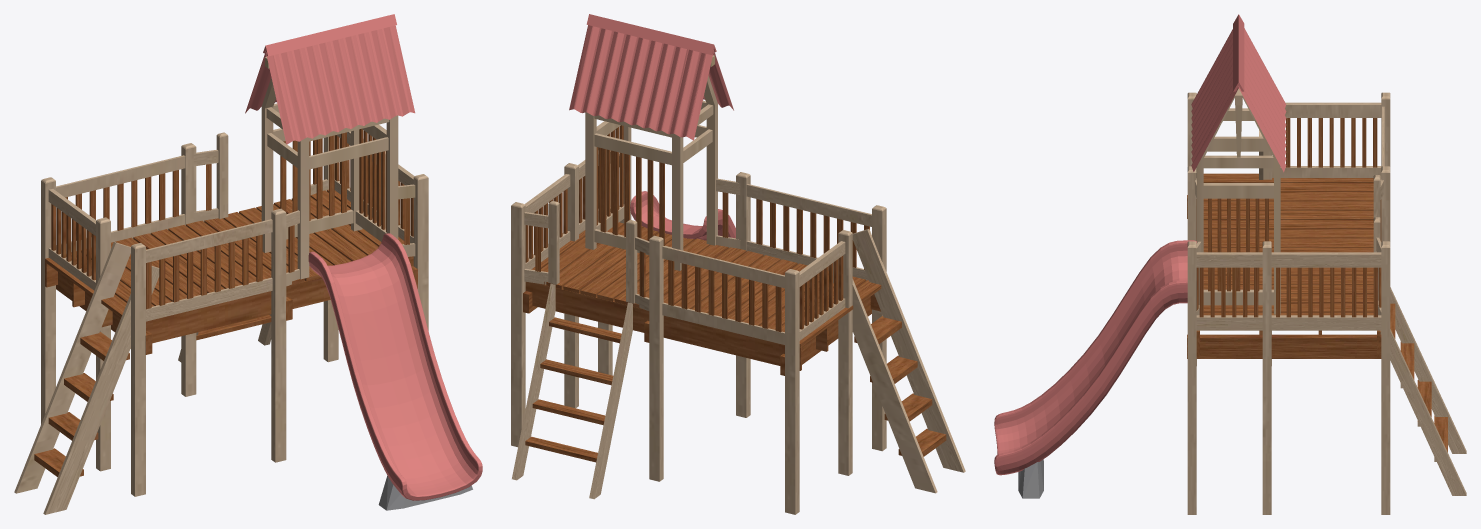
The model's file is sh-bs0-child-hut.glb.
The picture shows the model from 3 angles, left to right: view 1: azimuth 30°, elevation 25°; view 2: azimuth 150°, elevation 25°; view 3: azimuth 270°, elevation 25°; orthographic projection. The views are drawn at different scales.
Visible parts, largest first — view 1: WoodParts, ChidHut; view 2: WoodParts, ChidHut; view 3: WoodParts, ChidHut.
Boxes of the visible parts, <box> form: WoodParts: <box>14,56,428,514</box>; ChidHut: <box>245,14,482,510</box>; WoodParts: <box>511,55,965,514</box>; ChidHut: <box>569,14,735,240</box>; WoodParts: <box>1187,88,1466,514</box>; ChidHut: <box>994,14,1286,498</box>.
Bounding box in the file's own units: 1 × 1 × 1.
4 materials, 2 textured.
